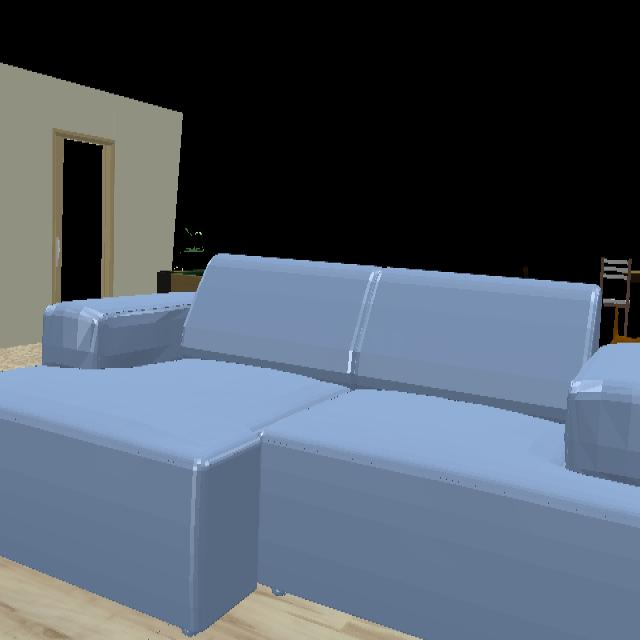sofa: (0, 257, 640, 640)
